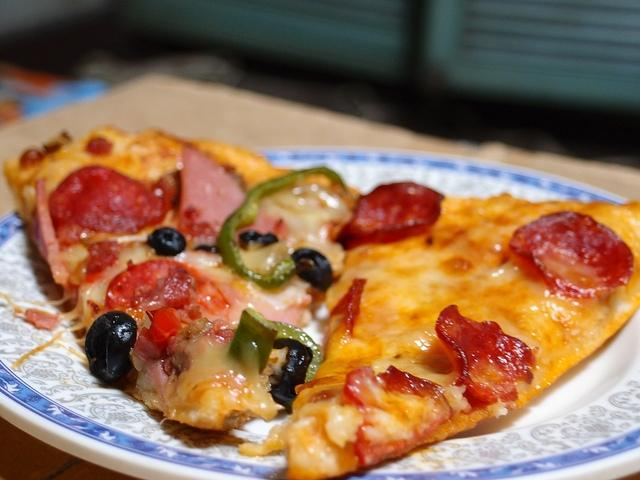bell pepper: (216, 167, 354, 289), (226, 306, 324, 382), (134, 310, 182, 362)
